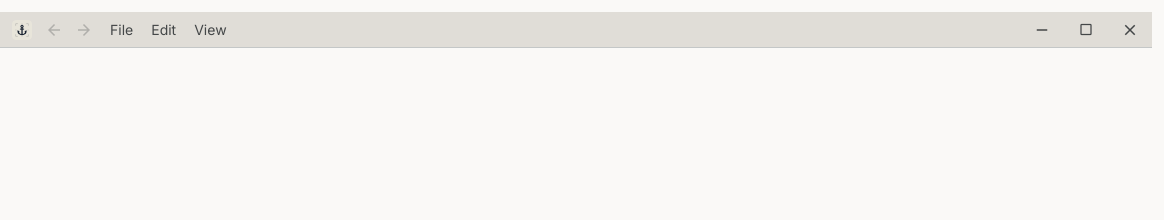
Scenario: <TitleBar /> › steps the zoom from the View menu and shows the new level
Click the button "View".
click(210, 30)  # box [186,16,235,44]
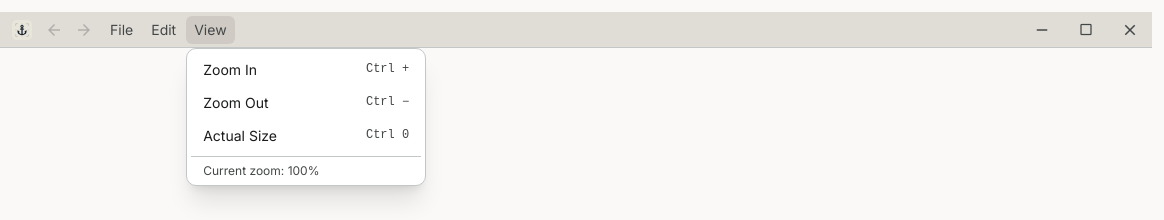
Click the menu item "Zoom In Ctrl +".
click(306, 69)  # box [191,52,421,86]
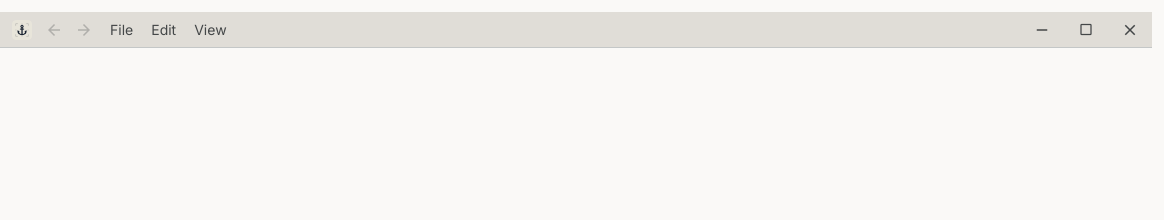
Click the button "View".
click(210, 30)  # box [186,16,235,44]
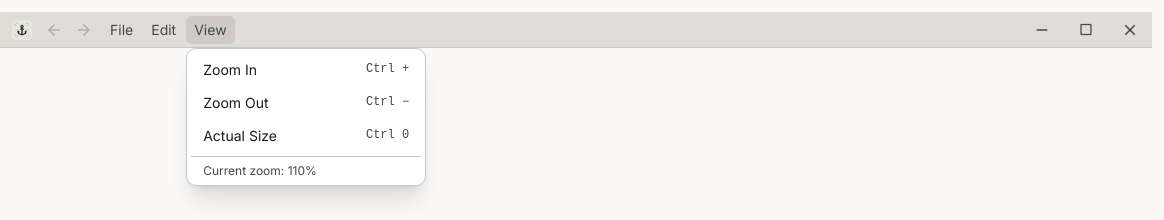
Result: the text "Current zoom: 110%" is shown at [191,156,421,180]
